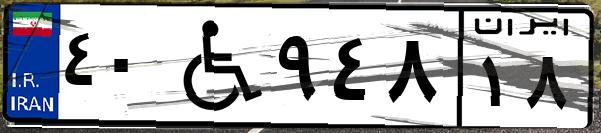0: (110, 28, 158, 98)
1: (475, 38, 525, 113)
4: (330, 28, 385, 110), (57, 26, 110, 100)
8: (385, 28, 445, 110), (525, 38, 570, 115)
9: (270, 28, 330, 110)
ژ (معلولین و جانبازان): (158, 12, 270, 120)
